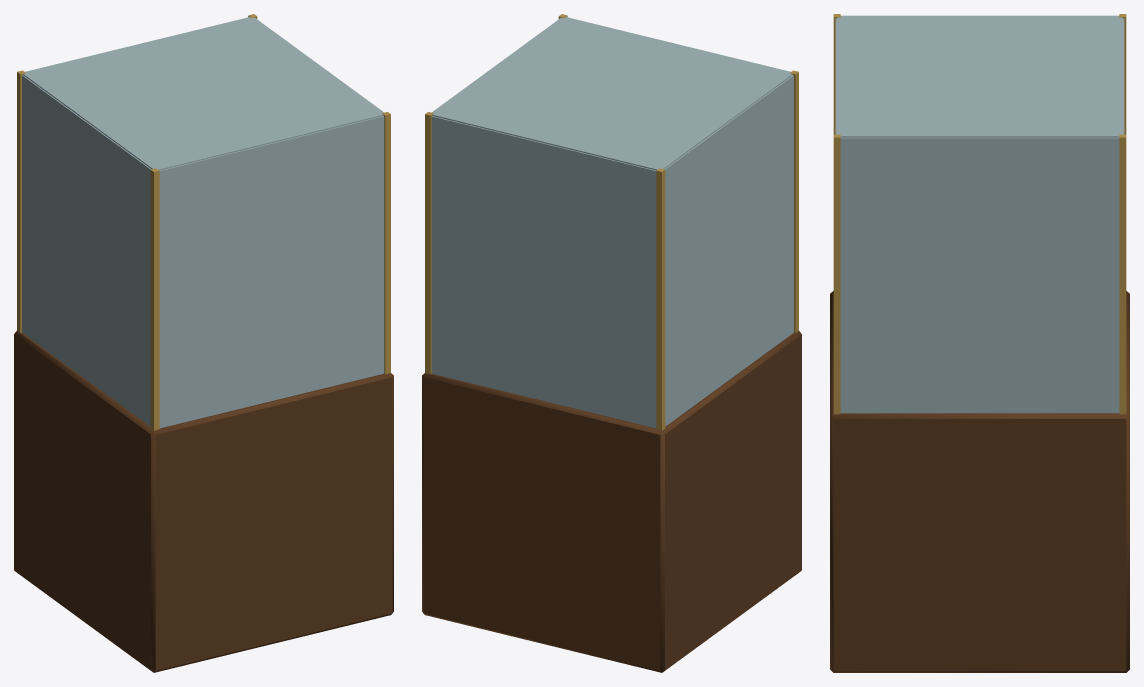
Rendered from display_case.glb.
3 views of the same model, side by side, from view 1: azimuth 30°, elevation 25°; view 2: azimuth 150°, elevation 25°; view 3: azimuth 270°, elevation 25° (orthographic). The views are drawn at different scales.
Visible parts, largest first — view 1: DisplayCase; view 2: DisplayCase; view 3: DisplayCase.
Boxes of the visible parts, bbox=[...] form: DisplayCase: bbox=[14, 14, 393, 672]; DisplayCase: bbox=[422, 14, 801, 672]; DisplayCase: bbox=[830, 14, 1129, 672].
Size of the model in its own units: 0.84 by 1.65 by 0.84.
